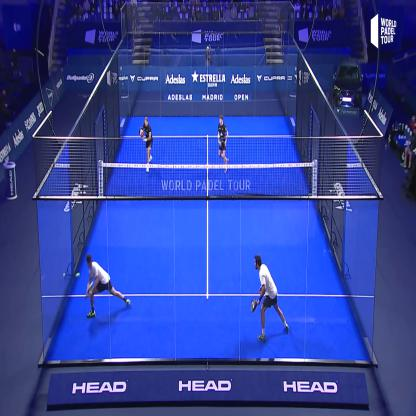ball: (73, 268, 83, 280)
